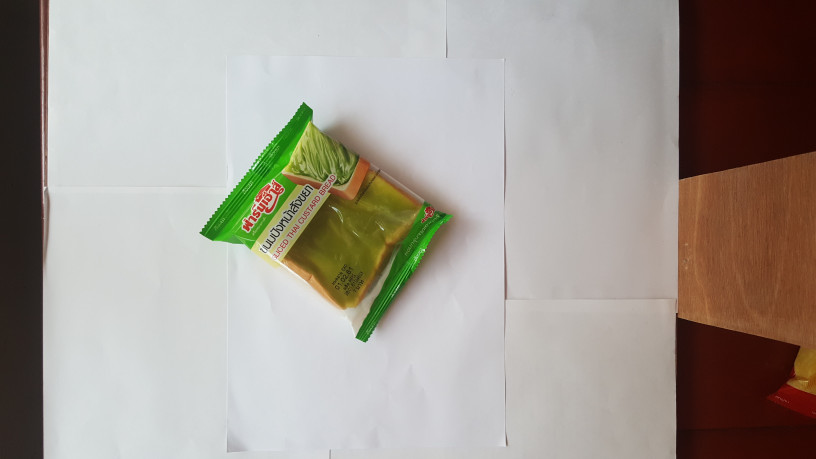farmhouse-bread-pandan: (188, 103, 457, 351), (186, 106, 454, 352)
